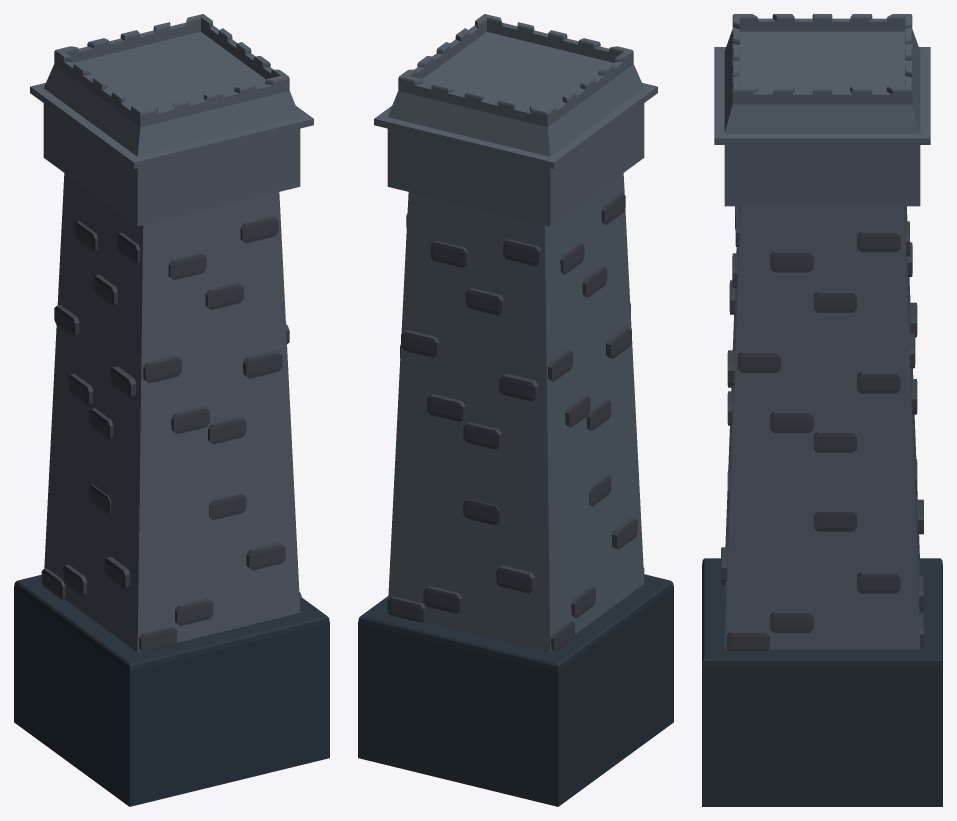
The model's file is The Wall.fbx_In_Ba_Sing_Se.fbx.
The picture shows the model from 3 angles, left to right: view 1: azimuth 30°, elevation 25°; view 2: azimuth 150°, elevation 25°; view 3: azimuth 270°, elevation 25°; orthographic projection. The views are drawn at different scales.
Parts seen in each view (by area): view 1: Cube.003; view 2: Cube.003; view 3: Cube.003.
Boxes of the visible parts, <box> form: Cube.003: <box>14,14,329,806</box>; Cube.003: <box>358,14,673,806</box>; Cube.003: <box>702,14,942,806</box>.
Size of the model in its own units: 2214 by 2214 by 7150.
